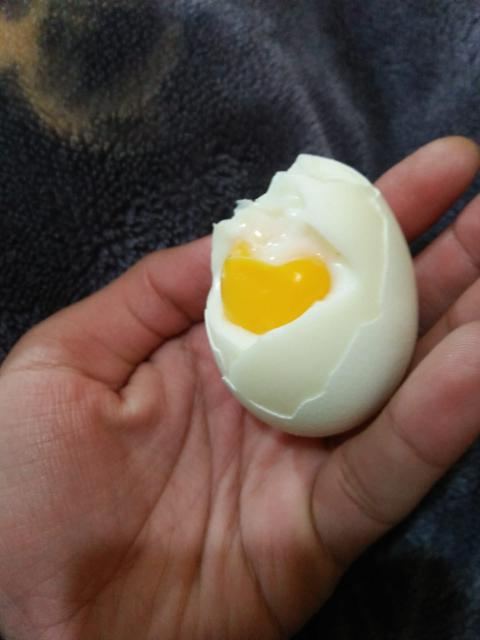Roto: (205, 155, 420, 435)
